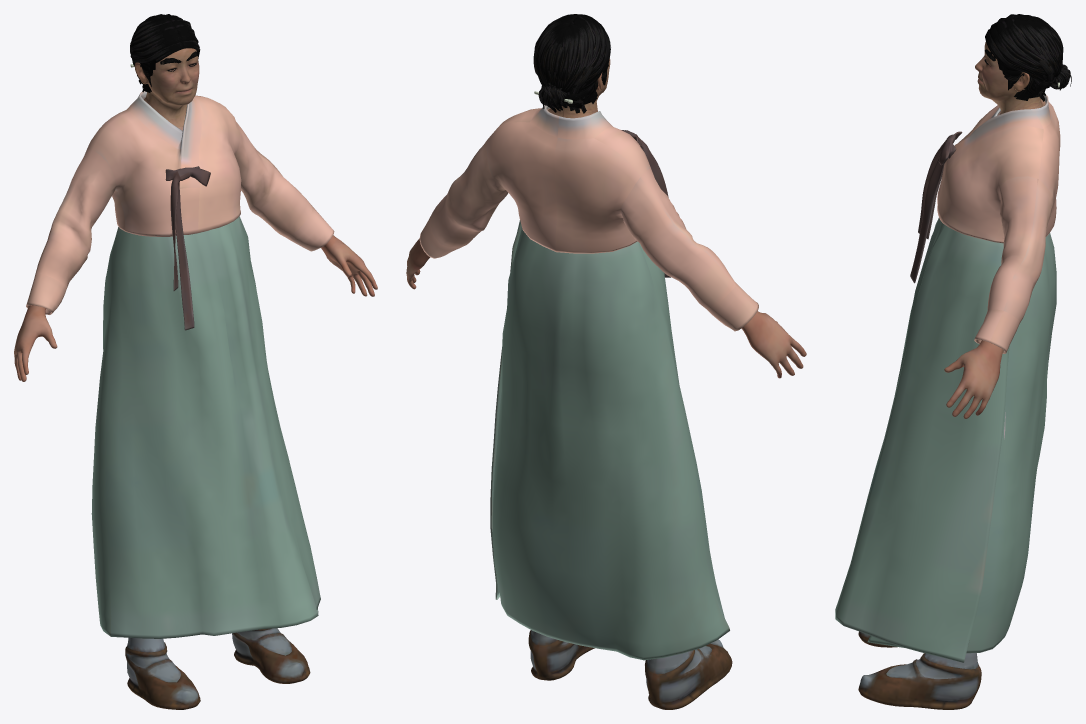
The model's file is jumo5.fbx.
3 renders of one model, left to right at view 1: azimuth 30°, elevation 25°; view 2: azimuth 150°, elevation 25°; view 3: azimuth 270°, elevation 25°, orthographic. The views are drawn at different scales.
Parts seen in each view (by area): view 1: NPC_Vendor_VegetableShop_Mesh_0; view 2: NPC_Vendor_VegetableShop_Mesh_0; view 3: NPC_Vendor_VegetableShop_Mesh_0.
Part boxes in pixels (box(x1,y1,x2,y2)): NPC_Vendor_VegetableShop_Mesh_0: box(14, 14, 377, 709); NPC_Vendor_VegetableShop_Mesh_0: box(406, 14, 806, 709); NPC_Vendor_VegetableShop_Mesh_0: box(835, 14, 1071, 709).
Bounding box in the file's own units: 98.14 × 168 × 54.73.
Materials: 2 (2 with a texture image).
